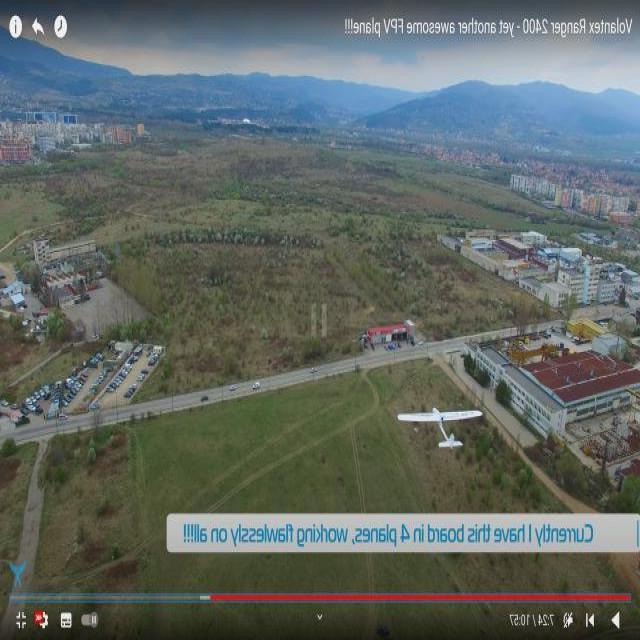iha: (426, 406, 452, 451)
